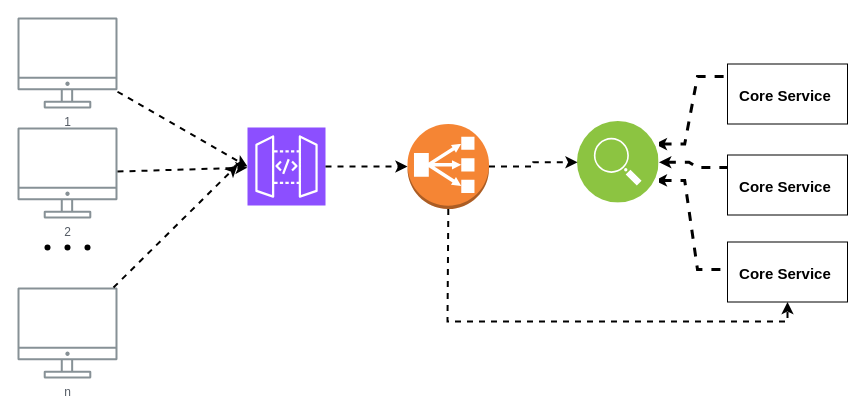
The diagram is 865 pixels wide and 416 high, and some of its shapes have lost their labels. The shapes that lost their labels are listed below. From the top down, each one's centre as x and y in pixels, then its label:
At (286,166): "API GATEWAY".
At (447,166): "LOAD BALANCER".
At (617,161): "Service Discovery Eureka".
